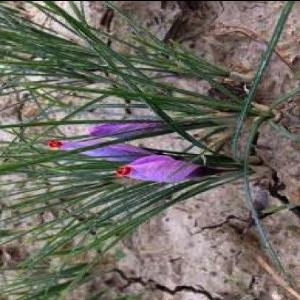Saffron: (118, 153, 217, 181), (45, 140, 162, 160), (90, 118, 190, 138)
